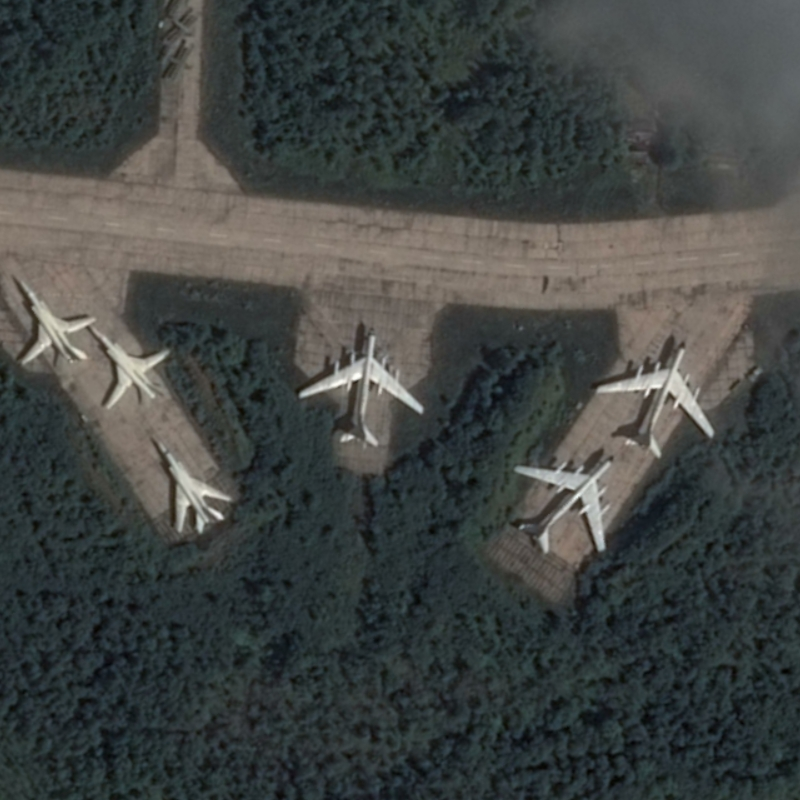A12: (147, 431, 239, 538), (83, 320, 177, 412), (9, 271, 94, 369)
A17: (294, 324, 428, 452), (591, 336, 719, 462), (510, 453, 620, 558)
